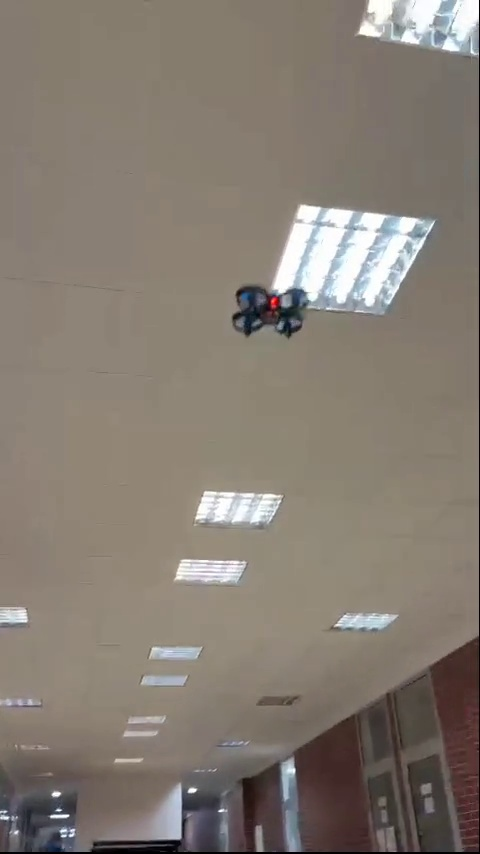drone: (233, 289, 309, 342)
